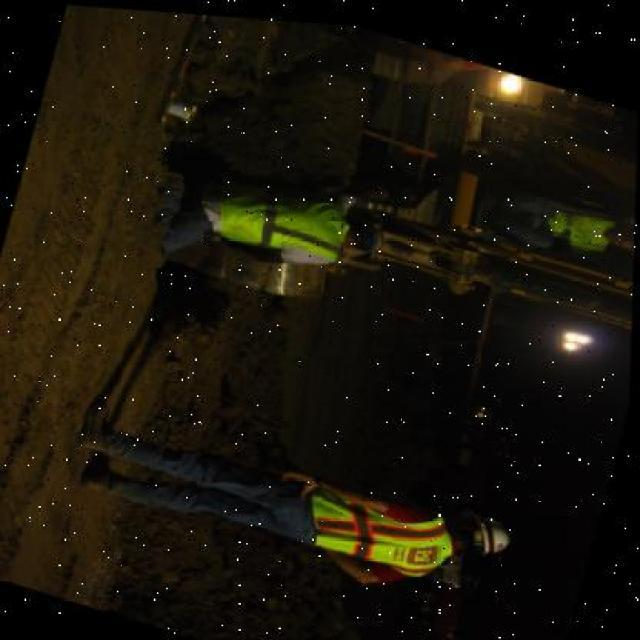vest: (300, 472, 462, 582), (209, 163, 357, 270), (536, 188, 616, 248)
